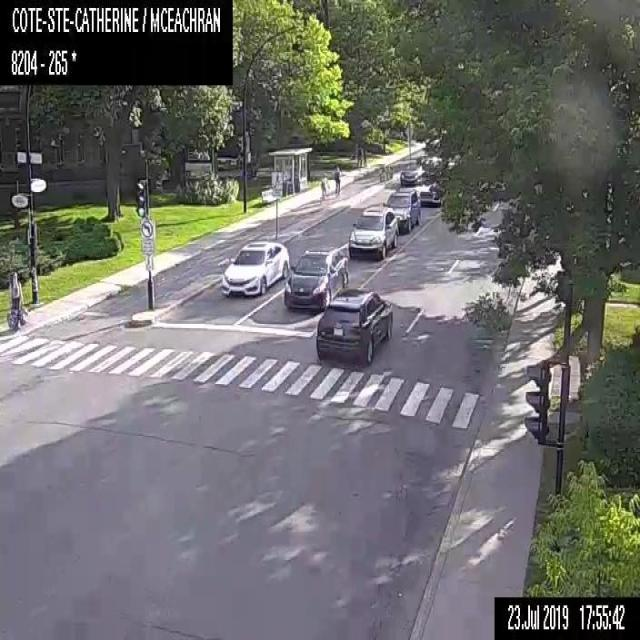cyclist: (318, 170, 329, 204), (331, 161, 340, 196)
pedestrian: (6, 268, 26, 333), (356, 142, 362, 168)
vehicle: (315, 288, 393, 366), (283, 244, 348, 308), (221, 239, 289, 296), (348, 203, 399, 260), (382, 188, 419, 230), (400, 160, 424, 184), (418, 183, 441, 207)
